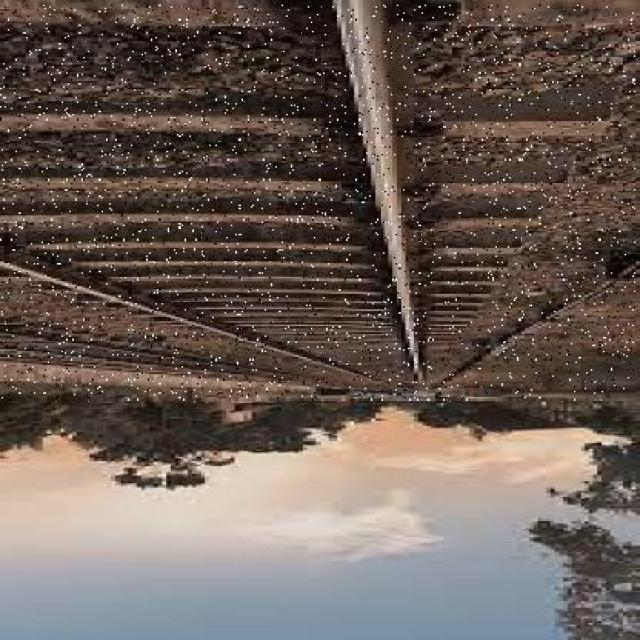rail: (2, 6, 636, 401)
